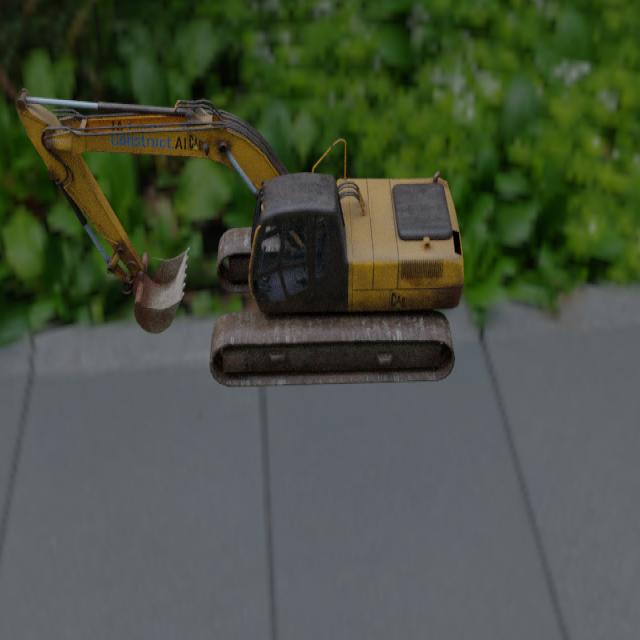excavator: (15, 88, 464, 387)
